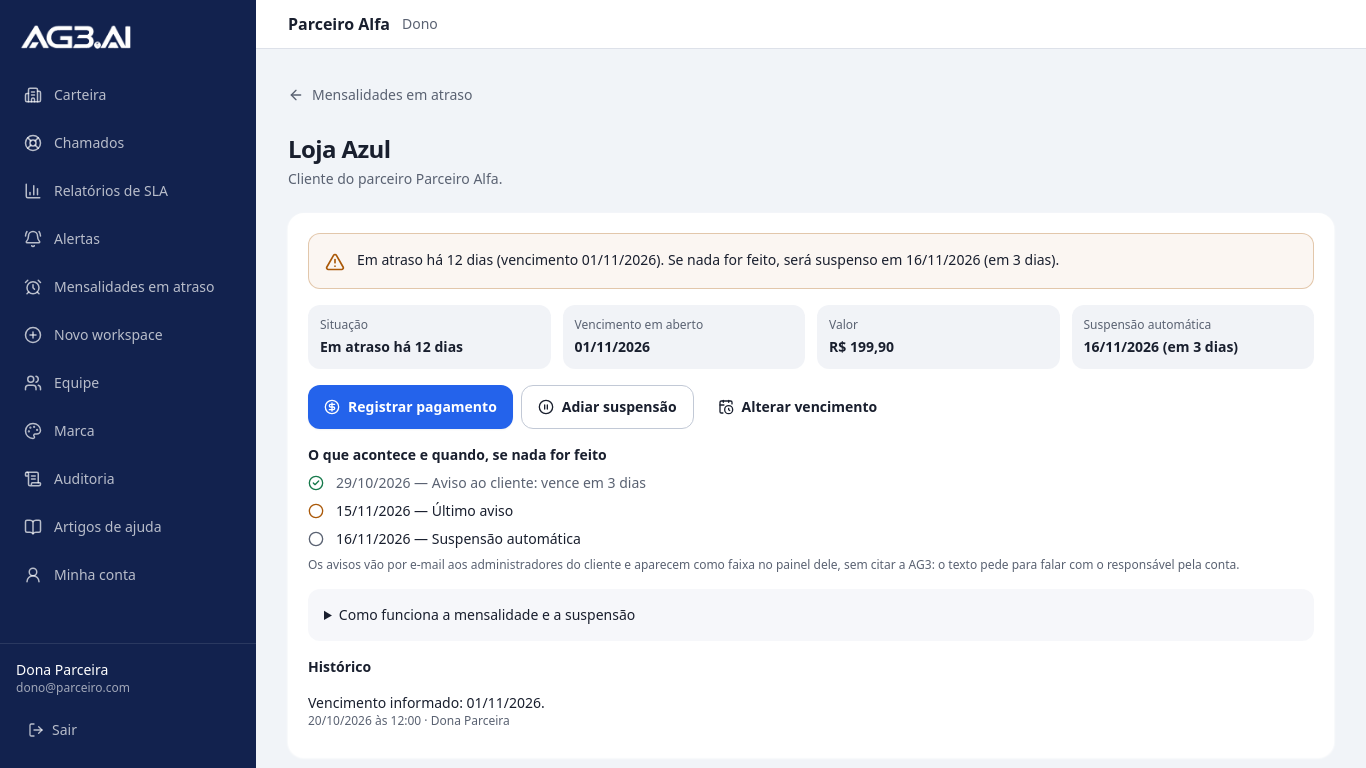
Test case: mensalidade do cliente › explica o que vai acontecer e registra o pagamento
Expected: the heading "Loja Azul" is shown, [288,132,390,165]
Expected: the text "será suspenso em 16/11/2026" is shown, [357,250,1059,269]
Click the button "Registrar pagamento" at (410, 407), box [308,385,513,429]
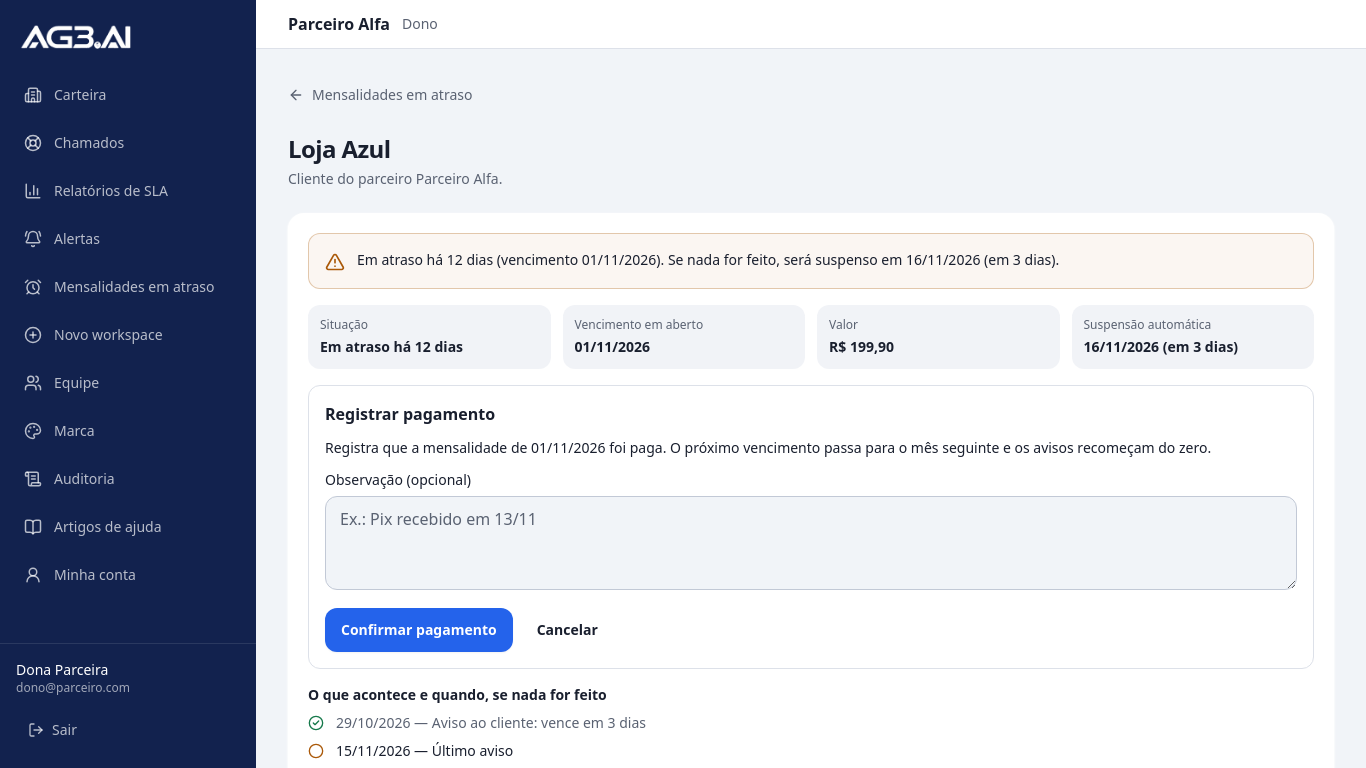
Type "pix" into the text box labelled "Observação (opcional)" at (811, 543), box [325,496,1297,590]
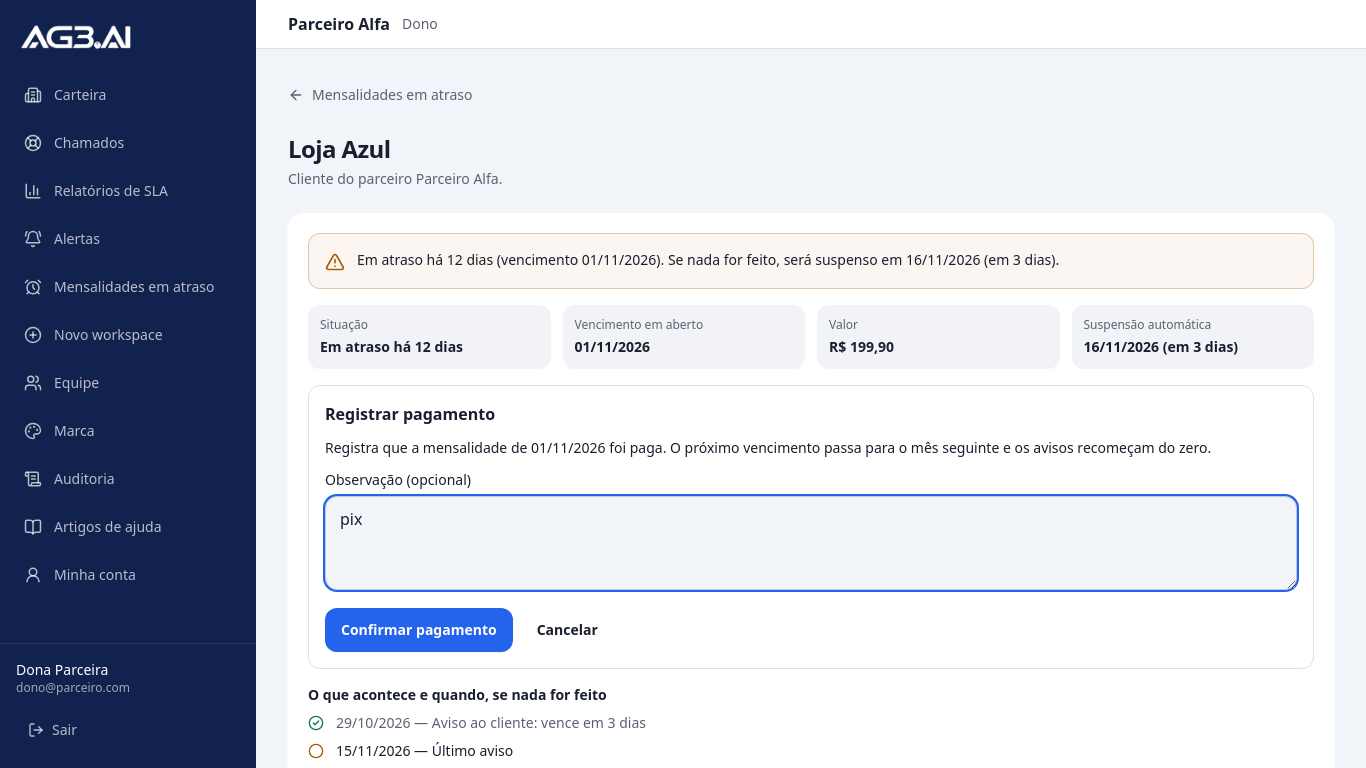
Click the button "Confirmar pagamento" at (419, 630), box [325,608,513,652]
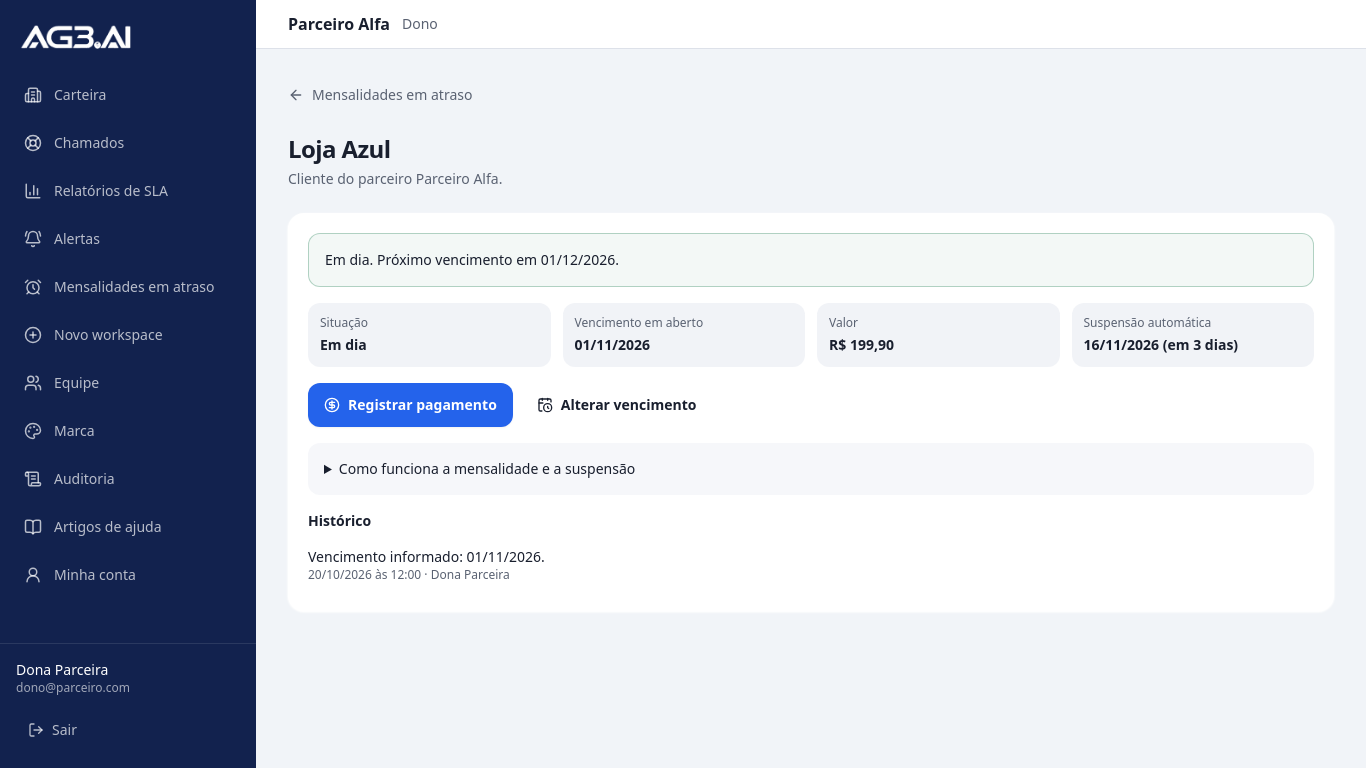
Now the text "Em dia. Próximo vencimento em 01/12/2026." is shown, box [325,250,619,270]
